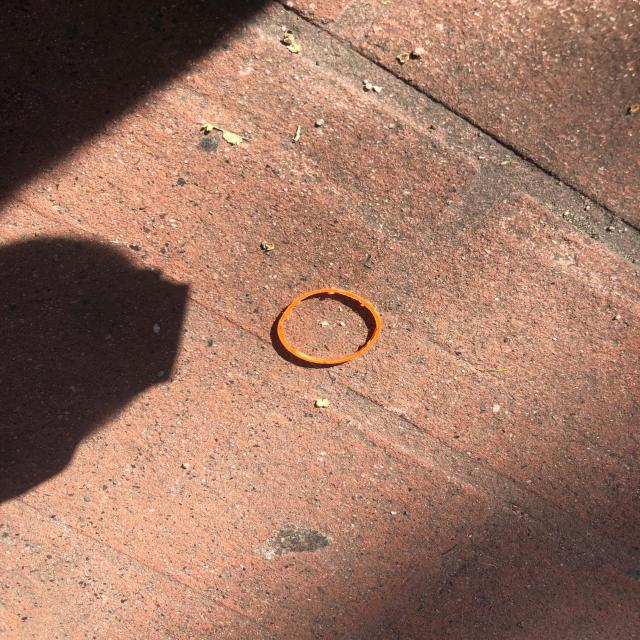litter: (365, 207, 469, 289)
